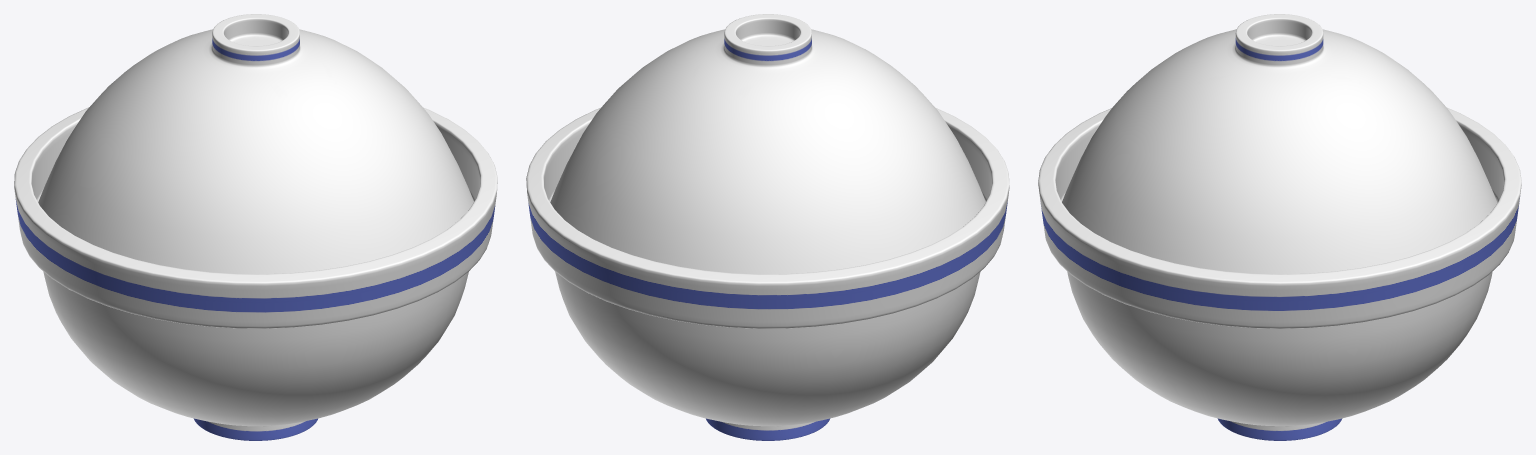
Rendered from bowl.FBX.
3 renders of one model, left to right at view 1: azimuth 30°, elevation 25°; view 2: azimuth 150°, elevation 25°; view 3: azimuth 270°, elevation 25°, orthographic.
Visible parts, largest first — view 1: bowl02, bowl01; view 2: bowl02, bowl01; view 3: bowl02, bowl01.
Boxes of the visible parts, box(x1,y1,x2,y2) form: bowl02: box(38, 14, 473, 274); bowl01: box(14, 107, 497, 440); bowl02: box(550, 14, 985, 274); bowl01: box(526, 107, 1009, 440); bowl02: box(1062, 14, 1497, 274); bowl01: box(1038, 107, 1521, 440).
Size of the model in its own units: 26.52 by 23.12 by 26.52.
1 material, 1 textured.
